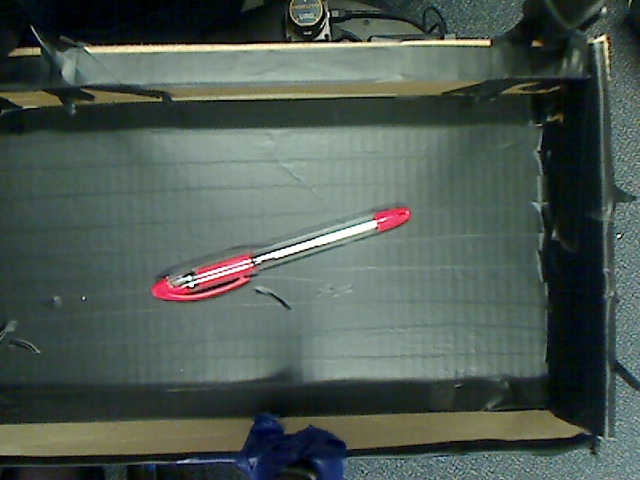pen: (139, 200, 421, 306)
